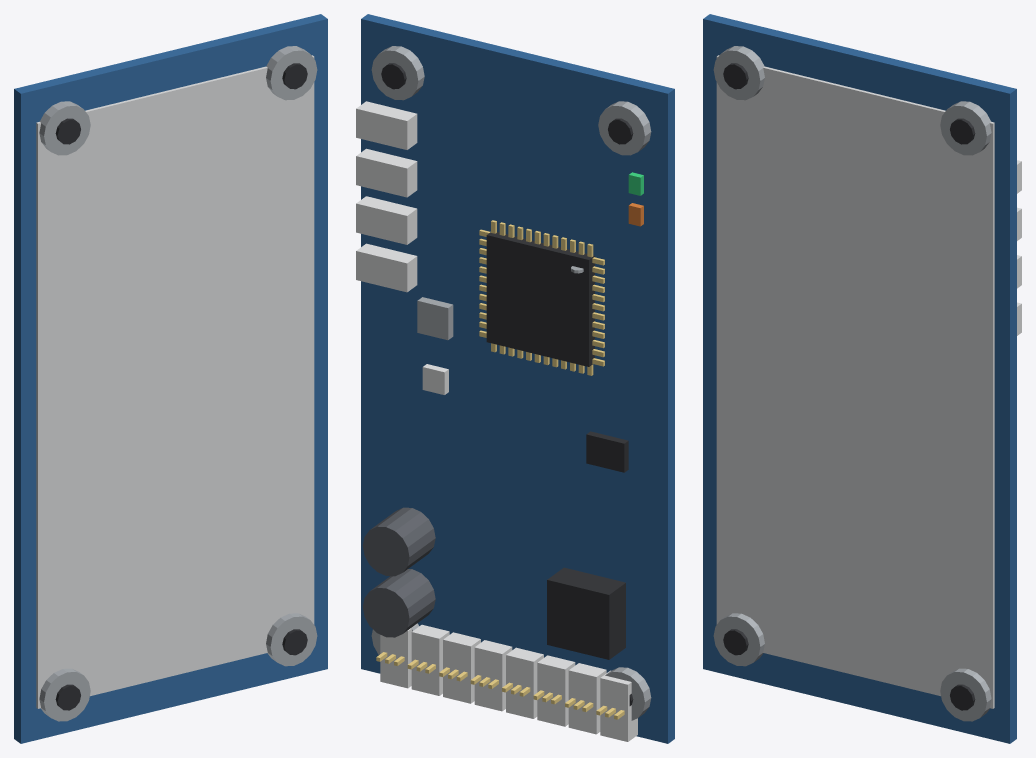
3 views of the same model, side by side, from view 1: azimuth 30°, elevation 25°; view 2: azimuth 150°, elevation 25°; view 3: azimuth 330°, elevation 25° (orthographic).
Visible parts, largest first — view 1: ControladoraVuelo; view 2: ControladoraVuelo; view 3: ControladoraVuelo.
Boxes of the visible parts, box(x1,y1,x2,y2) form: ControladoraVuelo: box(14, 14, 327, 743); ControladoraVuelo: box(356, 14, 674, 743); ControladoraVuelo: box(703, 14, 1021, 743).
Size of the model in its own units: 0.042 by 0.085 by 0.0098.
